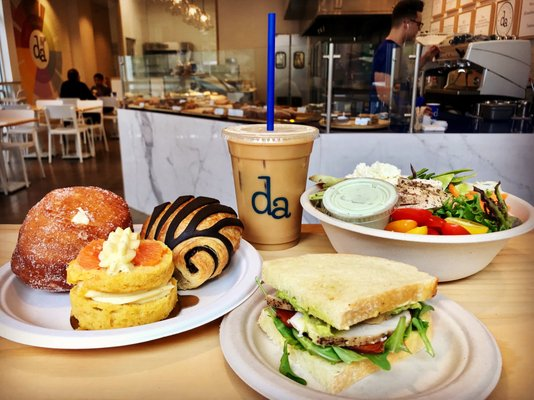pizza: (223, 122, 319, 250)
soup: (252, 253, 443, 395), (10, 185, 131, 293), (68, 229, 177, 331)
sushi: (309, 177, 534, 282), (322, 177, 398, 230)
